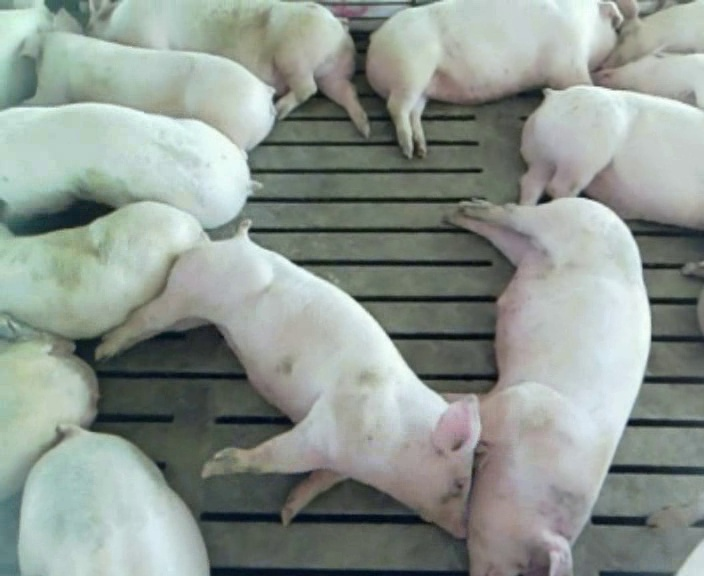pig: (96, 225, 479, 536), (450, 198, 650, 573), (367, 2, 621, 157), (85, 1, 368, 136), (18, 8, 274, 150), (18, 426, 207, 574), (0, 202, 205, 338), (521, 86, 703, 229), (601, 1, 703, 67), (592, 52, 703, 108), (0, 5, 51, 108)
